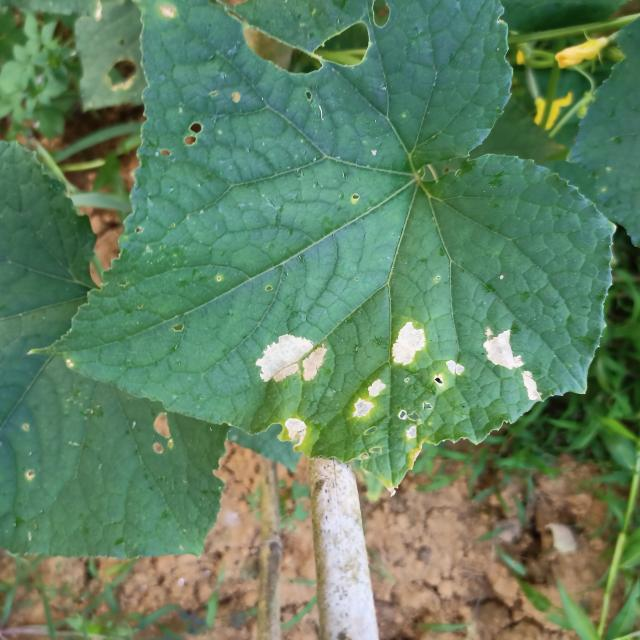disease_cucumber: (347, 314, 469, 441), (480, 321, 548, 403), (252, 330, 332, 390), (280, 414, 314, 454)
